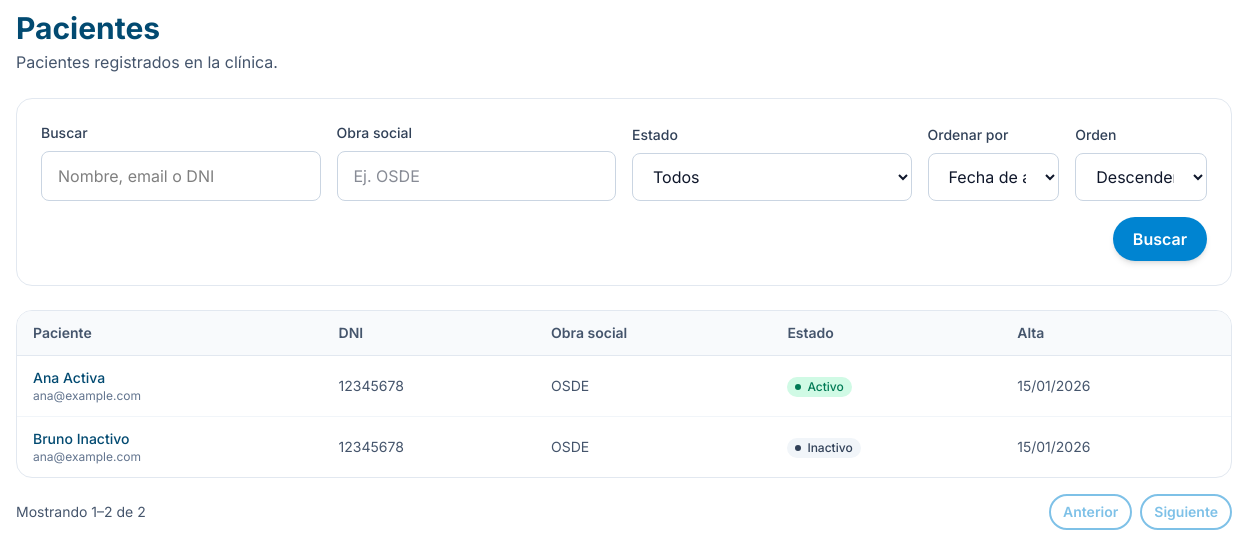
Test: AdminPatientsPage › filtra por estado inactivo
This screenshot has width=1249, height=547.
expect the link "Ana Activa" is shown: met, box 33,369 -> 105,386
Select "Inactivos" in the dropdown labelled "Estado": (772, 177) 632,153 -> 912,201
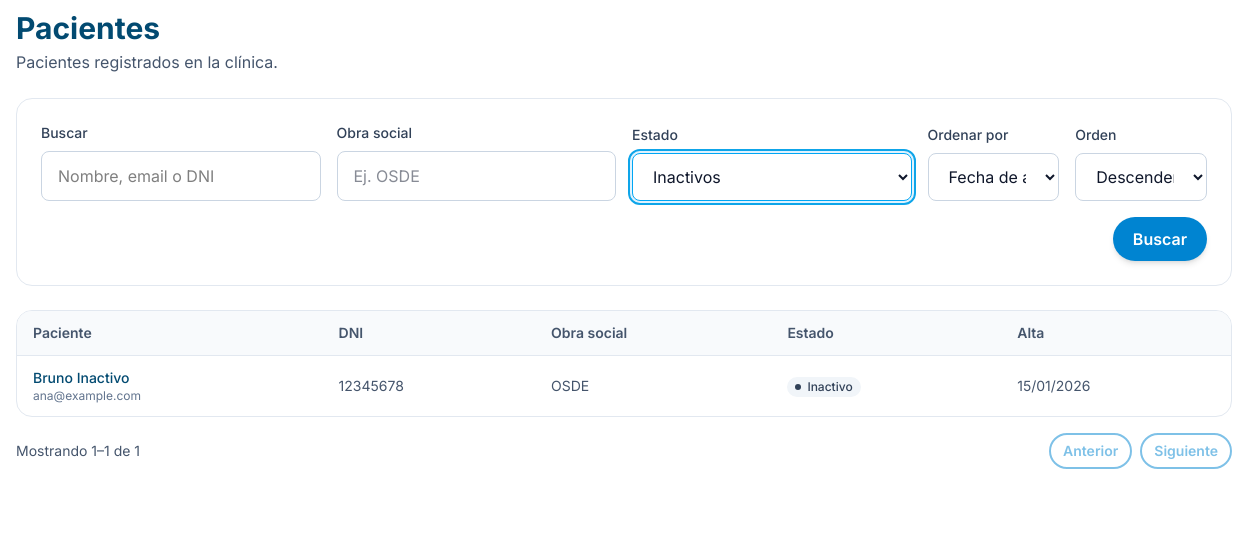
expect the link "Bruno Inactivo" is shown: met, box 33,369 -> 130,386
expect the link "Ana Activa" is gone: met
